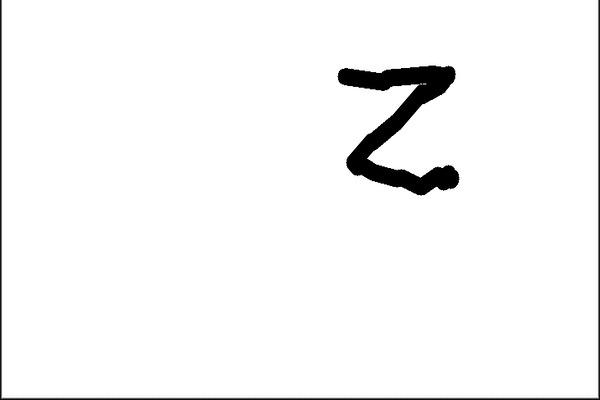Z: (329, 54, 480, 214)
